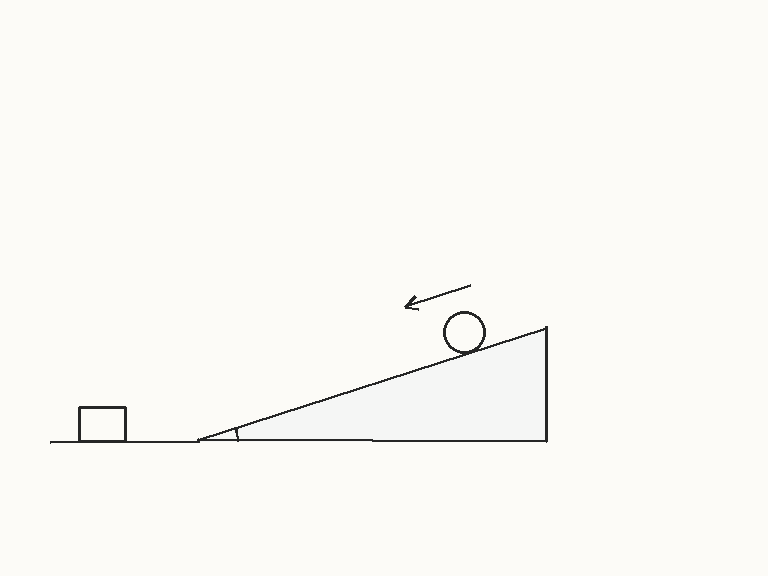ball: (441, 309, 487, 355)
block: (77, 405, 127, 443)
ramp: (196, 326, 549, 443)
